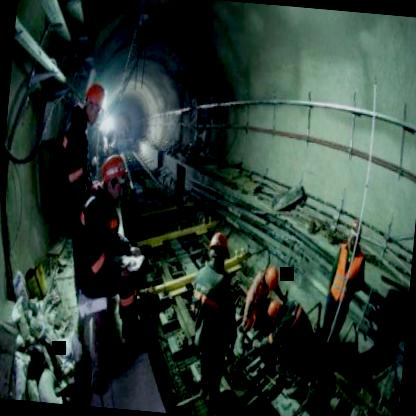helmet: (96, 150, 131, 204), (80, 78, 108, 122), (206, 229, 232, 272), (260, 262, 282, 292), (262, 299, 286, 325), (346, 218, 366, 248)
